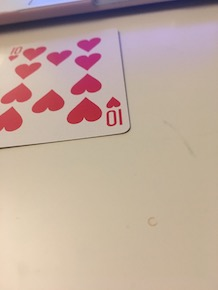TenOfHearts: (1, 23, 131, 149)
